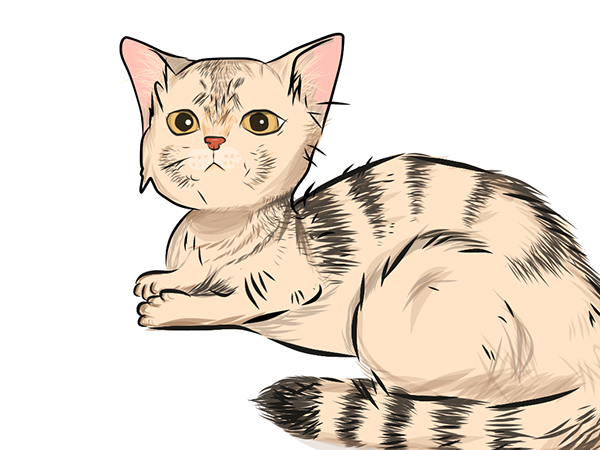cat: (101, 25, 600, 450)
